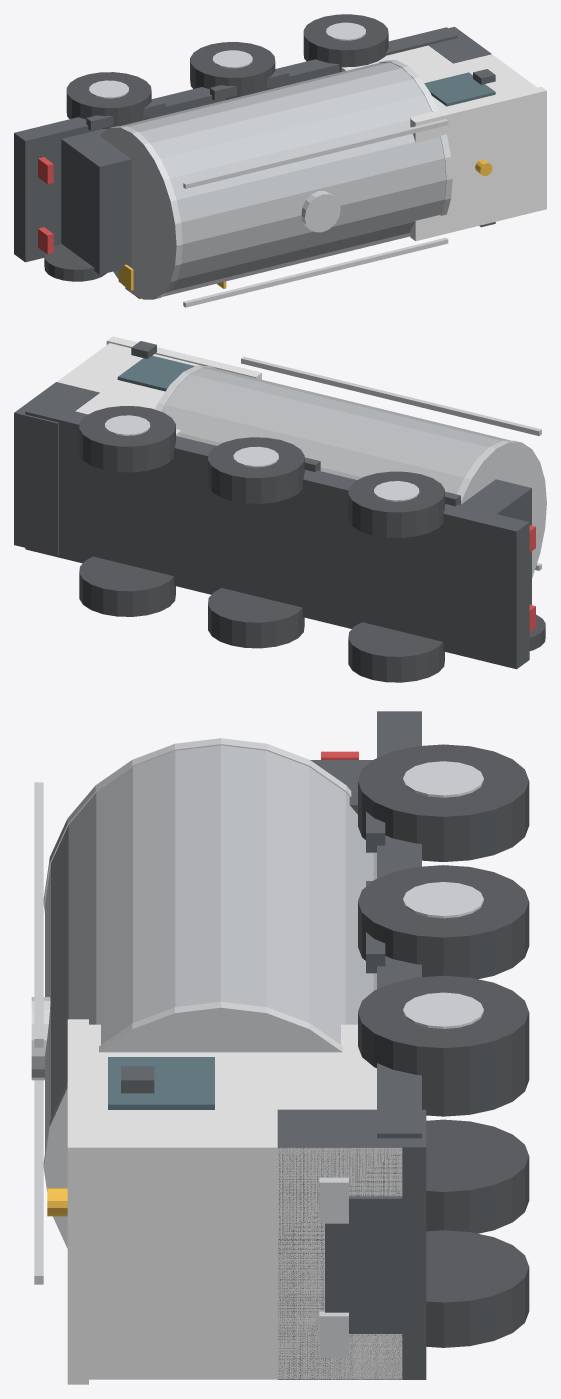
File: fuel-tanker.glb
3 views of the same model, one above another, from view 1: azimuth 30°, elevation 25°; view 2: azimuth 150°, elevation 25°; view 3: azimuth 270°, elevation 25° (orthographic). The views are drawn at different scales.
Visible parts, largest first — view 1: Main fuel tank, Cab roof, Chassis, Rear service frame, Tank rear cap, Cab, Wheel 2 1.18, Wheel 0 1.18, Wheel 1 1.18, Tank top rail_1, Tank top rail, Side window 1.09 (+11 smaller); view 2: Chassis, Main fuel tank, Front bumper, Wheel 0 1.18, Wheel 2 1.18, Wheel 1 1.18, Wheel 0 -1.18, Wheel 1 -1.18, Wheel 2 -1.18, Tank rear cap, Cab, Tank top rail_1 (+8 smaller); view 3: Main fuel tank, Cab, Front bumper, Wheel 2 1.18, Wheel 0 1.18, Wheel 1 1.18, Tank front cap, Wheel 2 -1.18, Wheel 1 -1.18, Front grille, Cab roof, Chassis (+13 smaller).
Boxes of the visible parts, x1=… form: Main fuel tank: x1=120, y1=62, x2=446, y2=296; Cab roof: x1=410, y1=87, x2=546, y2=241; Chassis: x1=14, y1=27, x2=457, y2=262; Rear service frame: x1=61, y1=129, x2=131, y2=274; Tank rear cap: x1=100, y1=126, x2=182, y2=299; Cab: x1=341, y1=45, x2=536, y2=118; Wheel 2 1.18: x1=303, y1=14, x2=388, y2=72; Wheel 0 1.18: x1=66, y1=72, x2=151, y2=128; Wheel 1 1.18: x1=190, y1=42, x2=275, y2=99; Tank top rail_1: x1=183, y1=119, x2=448, y2=188; Tank top rail: x1=183, y1=237, x2=448, y2=307; Side window 1.09: x1=424, y1=72, x2=495, y2=106; Chassis: x1=25, y1=402, x2=529, y2=669; Main fuel tank: x1=162, y1=368, x2=510, y2=494; Front bumper: x1=14, y1=382, x2=99, y2=555; Wheel 0 1.18: x1=348, y1=471, x2=444, y2=537; Wheel 2 1.18: x1=79, y1=406, x2=175, y2=472; Wheel 1 1.18: x1=208, y1=437, x2=304, y2=503; Wheel 0 -1.18: x1=348, y1=622, x2=444, y2=682; Wheel 1 -1.18: x1=208, y1=588, x2=304, y2=648; Wheel 2 -1.18: x1=79, y1=556, x2=175, y2=616; Tank rear cap: x1=457, y1=440, x2=546, y2=578; Cab: x1=57, y1=343, x2=201, y2=436; Tank top rail_1: x1=241, y1=356, x2=541, y2=436; Main fuel tank: x1=45, y1=745, x2=376, y2=1151; Cab: x1=89, y1=1024, x2=402, y2=1379; Front bumper: x1=277, y1=1109, x2=426, y2=1379; Wheel 2 1.18: x1=358, y1=975, x2=529, y2=1093; Wheel 0 1.18: x1=358, y1=744, x2=529, y2=861; Wheel 1 1.18: x1=358, y1=865, x2=529, y2=979; Tank front cap: x1=43, y1=1001, x2=342, y2=1248; Wheel 2 -1.18: x1=426, y1=1230, x2=529, y2=1347; Wheel 1 -1.18: x1=426, y1=1119, x2=529, y2=1233; Front grille: x1=325, y1=1196, x2=402, y2=1333; Cab roof: x1=67, y1=1019, x2=88, y2=1384; Chassis: x1=377, y1=711, x2=421, y2=1138.
Size of the model in its own units: 8.7 by 3.19 by 4.18.
